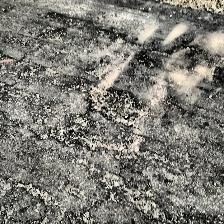pothole: (84, 84, 150, 127)
